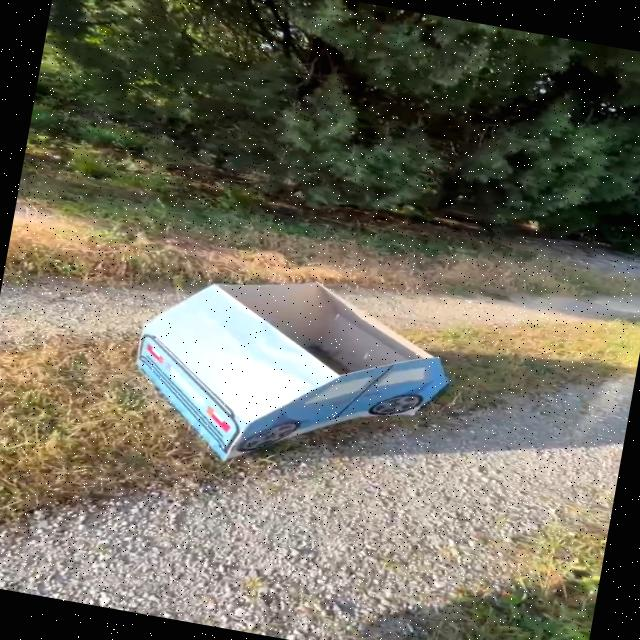blue_car: (85, 226, 506, 528)
